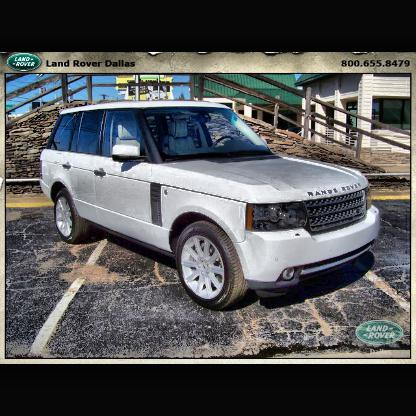Land Rover Range Rover SUV 2012: (37, 97, 382, 304)
